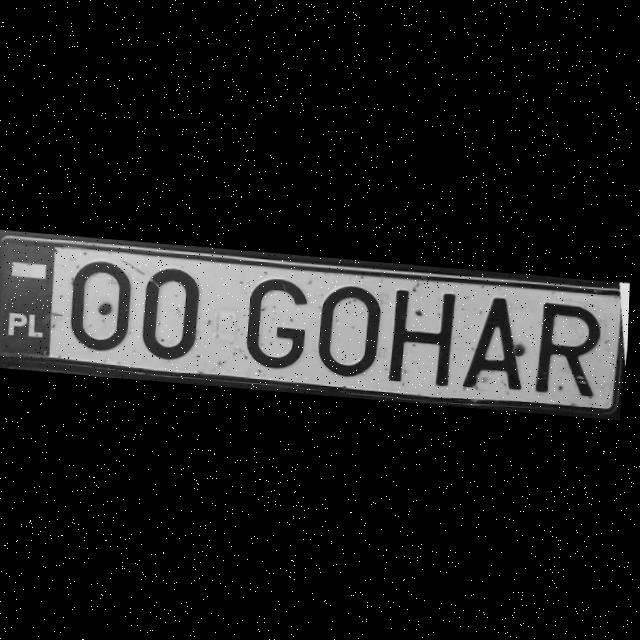license-plates: (0, 235, 624, 413)
